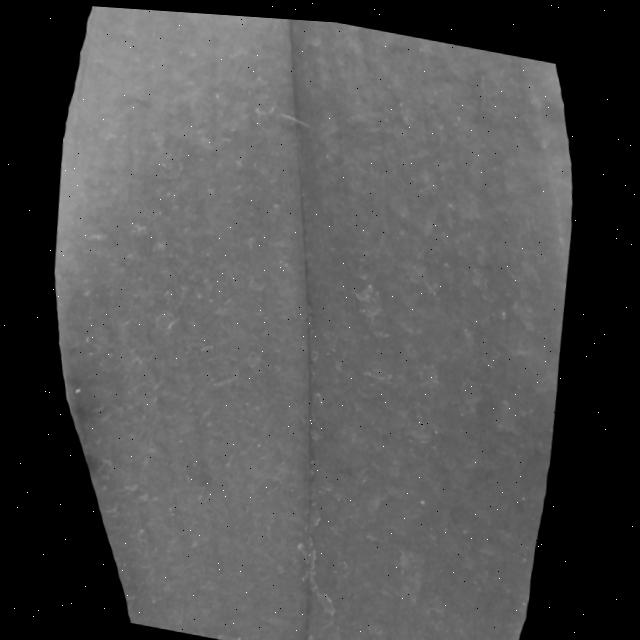mite: (275, 103, 311, 128), (150, 304, 178, 336), (61, 374, 88, 406), (66, 380, 83, 399), (68, 383, 80, 396)
spots: (20, 4, 585, 640)
